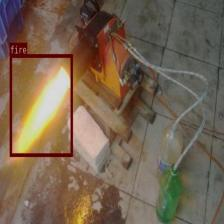fire: (10, 54, 72, 156)
